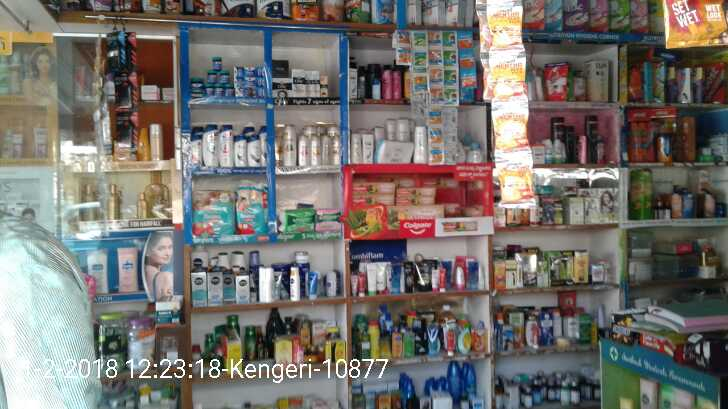beauty: (217, 125, 233, 167), (202, 125, 218, 166), (282, 124, 297, 166), (248, 133, 261, 166), (292, 70, 306, 99), (234, 135, 247, 166), (273, 128, 283, 165), (272, 78, 291, 97), (328, 135, 340, 165), (299, 136, 310, 167), (307, 70, 320, 96), (311, 134, 321, 166), (320, 76, 328, 96)
pharmacy: (190, 188, 235, 235), (235, 202, 265, 235), (280, 208, 314, 233), (315, 208, 342, 233), (212, 55, 223, 70), (203, 86, 214, 100), (223, 85, 233, 98), (213, 86, 223, 99), (206, 71, 216, 83), (218, 70, 228, 82)
